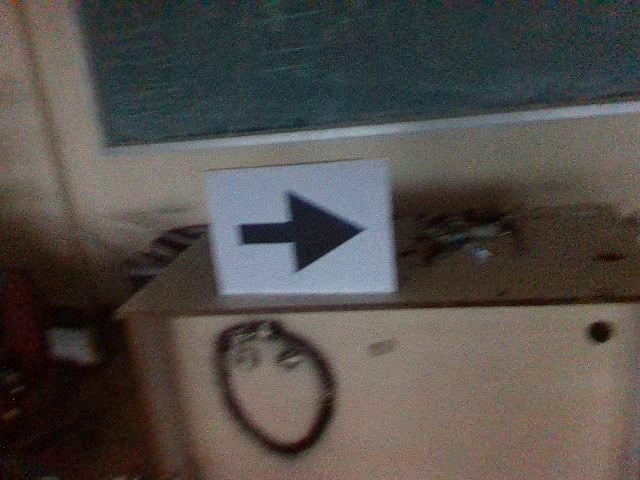Right: (224, 186, 368, 281)
